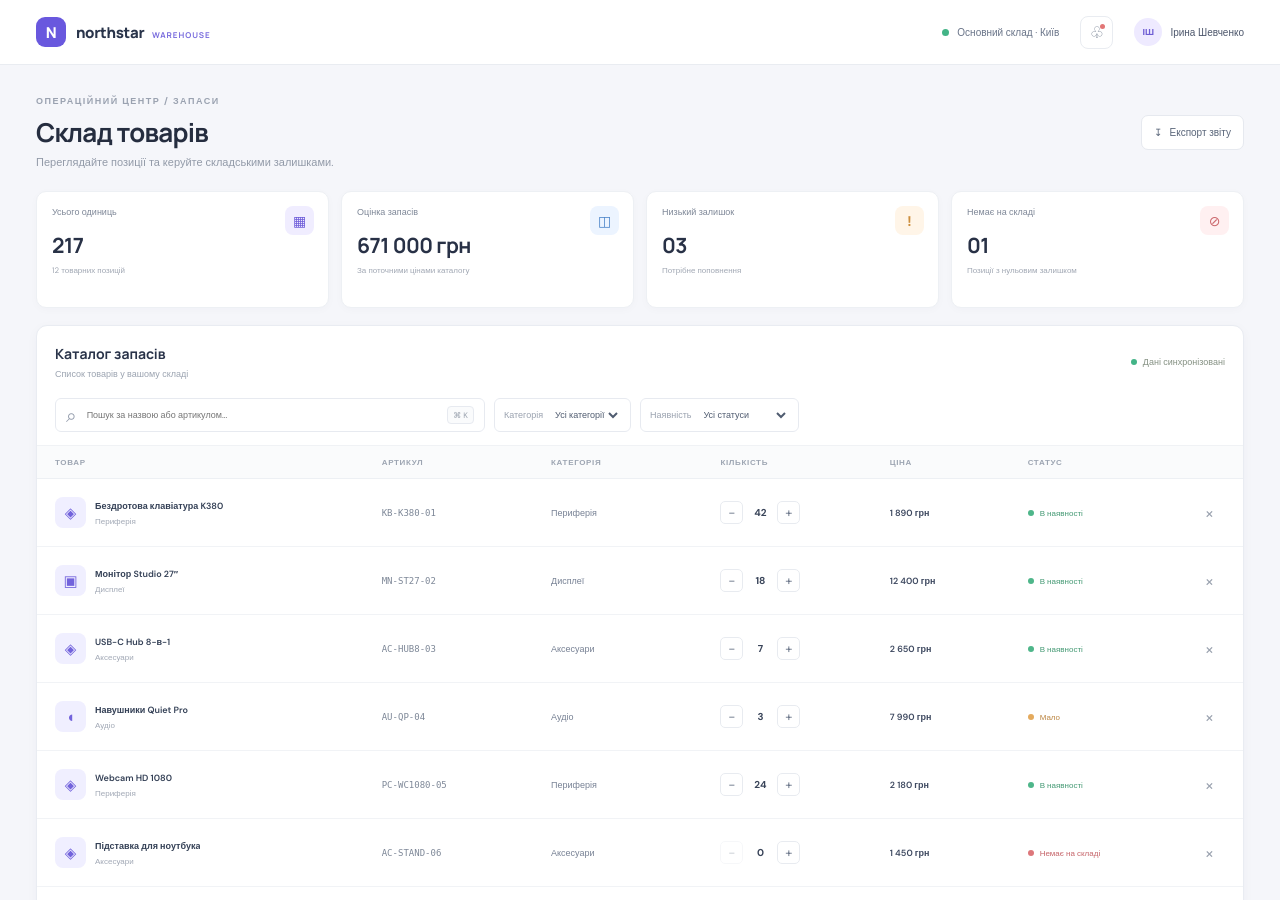
Test case: warehouse inventory workflow › loads products and searches by name or SKU
This screenshot has width=1280, height=900.
Later steps or results of the test are not shown.
Type "MN-ST27" into the field named "Пошук товарів" at (262, 415), box [85,408,439,422]
(page scrolled)
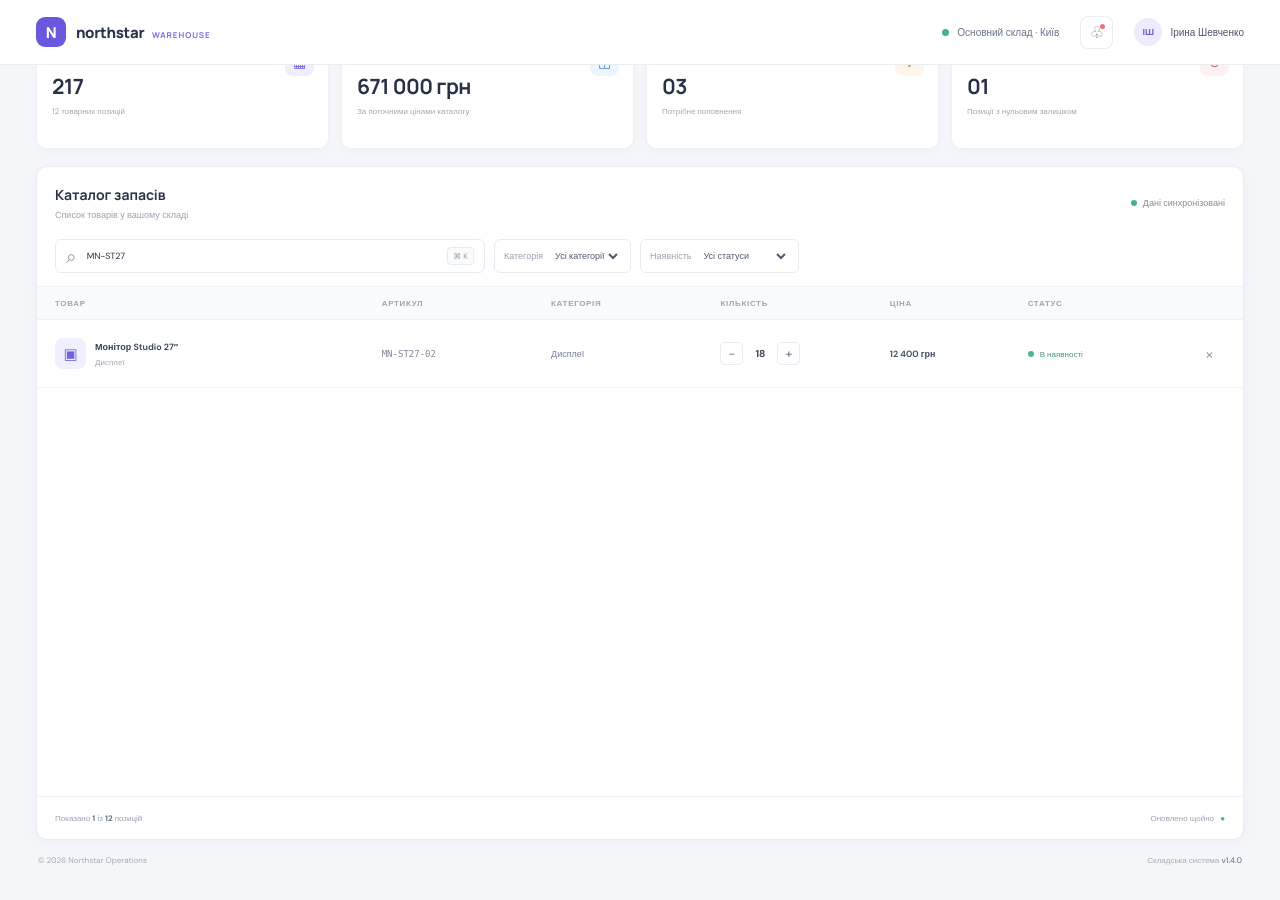
Expected: the text "Монітор Studio 27″" is shown, [95,340,178,352]
Result: the text "Навушники Quiet Pro" is gone
